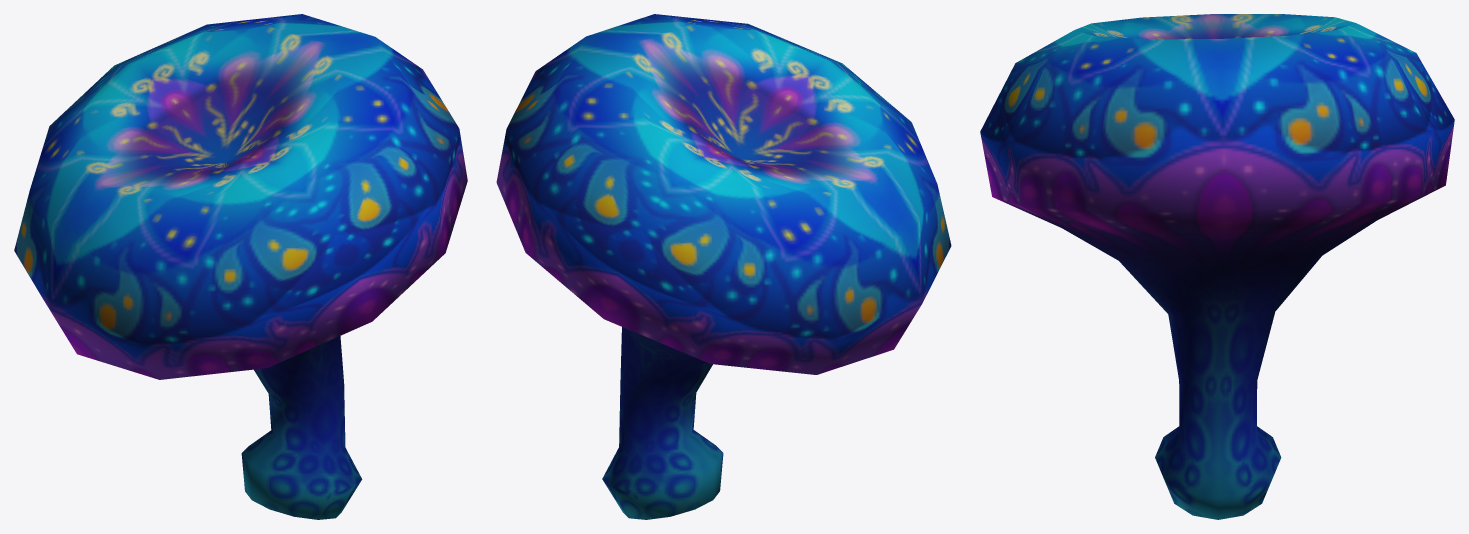
Rendered from Mushroom_06a.FBX.
The picture shows the model from 3 angles, left to right: view 1: azimuth 30°, elevation 25°; view 2: azimuth 150°, elevation 25°; view 3: azimuth 270°, elevation 25°; orthographic projection. The views are drawn at different scales.
Visible parts, largest first — view 1: Mushroom_06a; view 2: Mushroom_06a; view 3: Mushroom_06a.
Part boxes in pixels (<box>): Mushroom_06a: <box>14,14,467,519</box>; Mushroom_06a: <box>496,14,951,519</box>; Mushroom_06a: <box>980,14,1454,519</box>.
Bounding box in the file's own units: 89.52 × 102 × 92.58.
